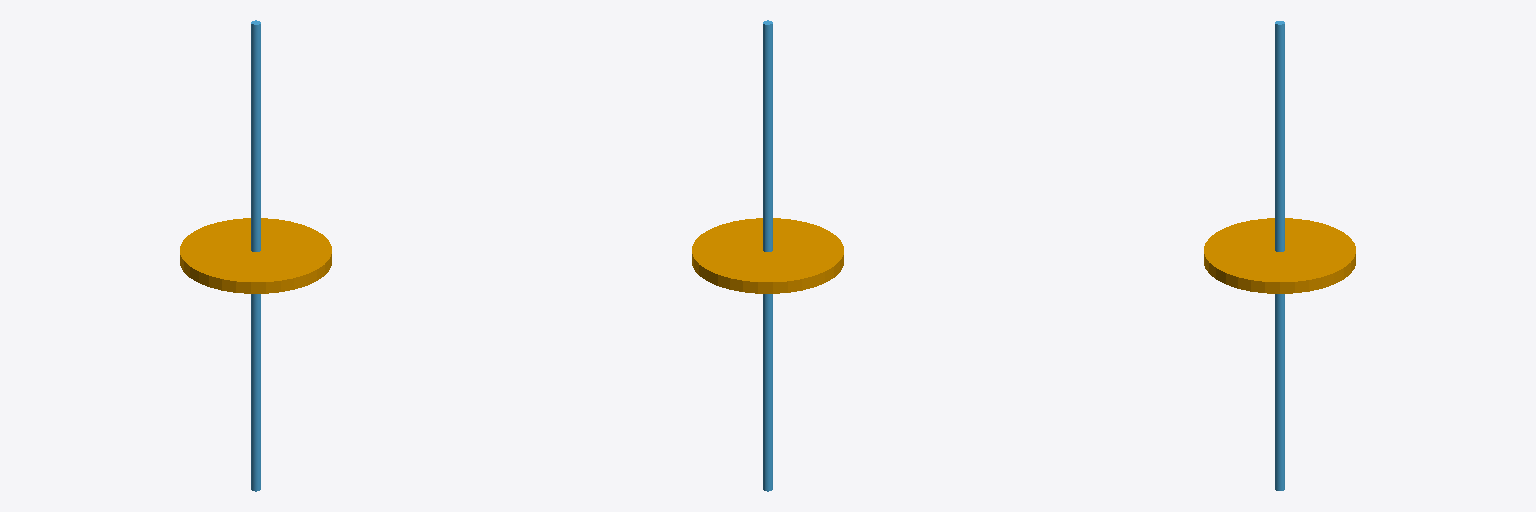
URDF robot description (camera_robot):
<robot name="camera_robot">
  <!-- Base of the tripod -->
    <link name="base">
        <pose xyz="0 0 0.025" rpy="0 0 0"/>
        <visual name="base_visual">
        <geometry>
            <cylinder radius="0.3" length="0.05"/>
        </geometry>
        </visual>
        <collision name="base_collision">
        <geometry>
            <cylinder radius="0.3" length="0.05"/>
        </geometry>
        </collision>
        <inertial>
        <mass value="2.0"/>
        <inertia ixx="0.15125" ixy="0.0" ixz="0.0" iyy="0.15125" iyz="0.0" izz="0.09" />
        </inertial>
    </link>

    <!-- Legs of the tripod -->
    <link name="leg1">
        <pose xyz="-0.15 0 1" rpy="0 0.1489 0"/>
        <visual name="leg1_visual">
        <geometry>
            <cylinder radius="0.02" length="2.022"/>
        </geometry>
        </visual>
        <collision name="leg1_collision">
        <geometry>
            <cylinder radius="0.02" length="2.022"/>
        </geometry>
        </collision>
        <inertial>
        <mass value="0.2"/>
        <inertia ixx="0.06799" ixy="0.0" ixz="0.0" iyy="0.06799" iyz="0.0" izz="0.0004" />
        </inertial>
    </link>

    <link name="leg2">
        <pose xyz="0.075 0.1299 1" rpy="0 0.1489 -2.094"/>
        <visual name="leg2_visual">
        <geometry>
            <cylinder radius="0.02" length="2.022"/>
        </geometry>
        </visual>
        <collision name="leg2_collision">
        <geometry>
            <cylinder radius="0.02" length="2.022"/>
        </geometry>
        </collision>
        <inertial>
        <mass value="0.2"/>
        <inertia ixx="0.06799" ixy="0.0" ixz="0.0" iyy="0.06799" iyz="0.0" izz="0.0004" />
        </inertial>
    </link>

    <link name="leg3">
        <pose xyz="0.075 -0.1299 1" rpy="0 0.1489 2.094"/>
        <visual name="leg3_visual">
        <geometry>
            <cylinder radius="0.02" length="2.022"/>
        </geometry>
        </visual>
        <collision name="leg3_collision">
        <geometry>
            <cylinder radius="0.02" length="2.022"/>
        </geometry>
        </collision>
        <inertial>
        <mass value="0.2"/>
        <inertia ixx="0.06799" ixy="0.0" ixz="0.0" iyy="0.06799" iyz="0.0" izz="0.0004" />
        </inertial>
    </link>

    <!-- Top platform -->
    <link name="top">
        <pose xyz="0 0 2.0" rpy="0 0 0"/>
        <visual name="top_visual">
        <geometry>
            <cylinder radius="0.05" length="0.02"/>
        </geometry>
        </visual>
        <collision name="top_collision">
        <geometry>
            <cylinder radius="0.05" length="0.02"/>
        </geometry>
        </collision>
        <inertial>
        <mass value="0.5"/>
        <inertia ixx="0.00065417" ixy="0.0" ixz="0.0" iyy="0.00065417" iyz="0.0" izz="0.000625" />
        </inertial>
    </link>

    <!-- Joints -->
    <joint name="base_leg1" type="fixed">
        <parent link="base"/>
        <child link="leg1"/>
    </joint>

    <joint name="base_leg2" type="fixed">
        <parent link="base"/>
        <child link="leg2"/>
    </joint>

    <joint name="base_leg3" type="fixed">
        <parent link="base"/>
        <child link="leg3"/>
    </joint>

    <joint name="top_base" type="fixed">
        <parent link="top"/>
        <child link="base"/>
    </joint>

    <link name="camera_bottom_screw_frame">
        <visual>
        <geometry>
            <mesh filename="package://conveyor_belt/realsense_camera/meshes/d435.dae" />
        </geometry>
        </visual>
        <collision>
        <geometry>
            <mesh filename="package://conveyor_belt/realsense_camera/meshes/d435.dae" />
        </geometry>
        </collision>
    </link>

    <link name="camera_link"></link>

    <link name="camera_depth_frame"></link>

    <link name="camera_depth_optical_frame"></link>

    <link name="camera_color_frame"></link>

    <link name="camera_color_optical_frame"></link>

    <link name="camera_left_ir_frame"></link>

    <link name="camera_left_ir_optical_frame"></link>

    <link name="camera_right_ir_frame"></link>

    <link name="camera_right_ir_optical_frame"></link>


    <joint name="camera_joint" type="fixed">
        <parent link="base" />
        <child link="camera_bottom_screw_frame" />
        <pose xyz="0.4 0 0.25" rpy="0 0 0" />
    </joint>

    <joint name="camera_link_joint" type="fixed">
        <parent link="camera_bottom_screw_frame" />
        <child link="camera_link" />
        <pose xyz="0 0.0175 0.0125 " rpy="0 0 0" />
    </joint>

    <joint name="camera_depth_joint" type="fixed">
        <parent link="camera_link" />
        <child link="camera_depth_frame" />
        <pose xyz="0 0 0" rpy="0 0 0" />
    </joint>

    <joint name="camera_depth_optical_joint" type="fixed">
        <parent link="camera_depth_frame" />
        <child link="camera_depth_optical_frame" />
        <pose xyz="0 0 0 " rpy="-1.57 0 -1.57" />
    </joint>

    <joint name="camera_color_joint" type="fixed">
        <parent link="camera_depth_frame" />
        <child link="camera_color_frame" />
        <pose xyz="0 0 0" rpy="0 0 0" />
    </joint>

    <joint name="camera_color_optical_joint" type="fixed">
        <parent link="camera_color_frame" />
        <child link="camera_color_optical_frame" />
        <pose xyz="0 0 0 " rpy="-1.57 0 -1.57" />
    </joint>

    <joint name="camera_left_ir_joint" type="fixed">
        <parent link="camera_depth_frame" />
        <child link="camera_left_ir_frame" />
        <pose xyz="0 0 0 " rpy="0 0 0 " />
    </joint>

    <joint name="camera_left_ir_optical_joint" type="fixed">
        <parent link="camera_left_ir_frame" />
        <child link="camera_left_ir_optical_frame" />
        <pose xyz="0 0 0 " rpy="-1.57 0 -1.57" />
    </joint>

    <joint name="camera_right_ir_joint" type="fixed">
        <parent link="camera_depth_frame" />
        <child link="camera_right_ir_frame" />
        <pose xyz="0 -0.050 0 " rpy="0 0 0" />
    </joint>

    <joint name="camera_right_ir_optical_joint" type="fixed">
        <parent link="camera_right_ir_frame" />
        <child link="camera_right_ir_optical_frame" />
        <pose xyz="0 0 0 " rpy="-1.57 0 -1.57" />
    </joint>
</robot>

--- Render facts (derived) ---
The picture shows the robot from 3 angles, left to right: view 1: azimuth 30°, elevation 25°; view 2: azimuth 150°, elevation 25°; view 3: azimuth 270°, elevation 25°; orthographic projection.
Model camera_robot with 15 links and 14 joints (14 fixed), rooted at top, posed every joint at zero.
Links seen in each view (by area): view 1: base, leg1; view 2: base, leg1; view 3: base, leg1.
Link boxes in pixels (x1,y1,x2,y2): base: (180, 218, 331, 293); leg1: (251, 20, 260, 491); base: (692, 218, 843, 293); leg1: (763, 20, 772, 491); base: (1204, 218, 1355, 293); leg1: (1275, 21, 1284, 490).
Bounding box of the posed robot: 0.6 × 0.6 × 2.02 m (x, y, z).
Meshes: 1 distinct files referenced, 0 mesh visuals loaded (none loaded); not drawn: 1 (reference not matched to a file when rendering).